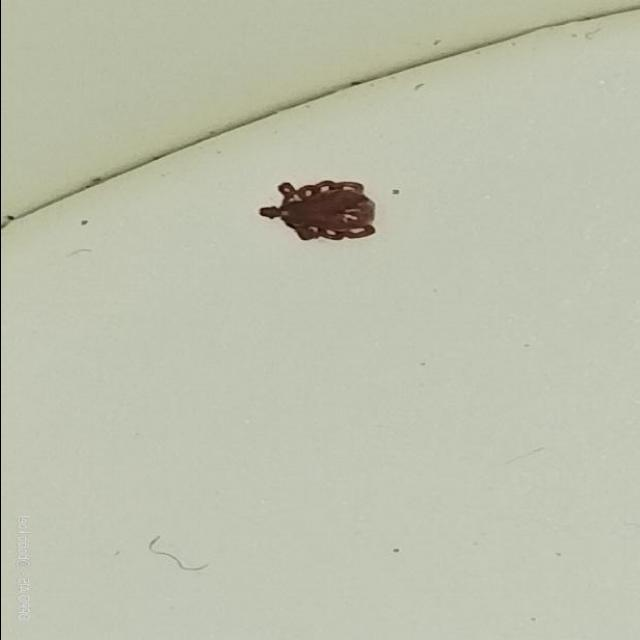Rhipicephalus Sanguineus-M: (255, 178, 375, 242)
